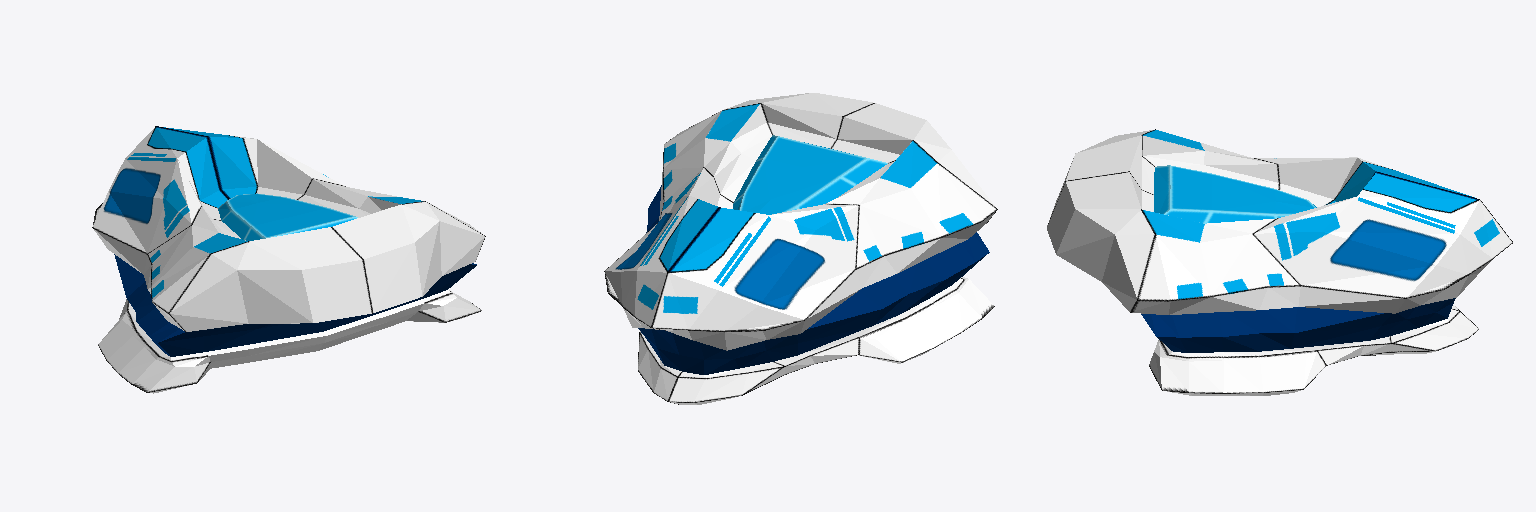
3 renders of one model, left to right at view 1: azimuth 30°, elevation 25°; view 2: azimuth 150°, elevation 25°; view 3: azimuth 270°, elevation 25°, orthographic.
Parts seen in each view (by area): view 1: pCube12; view 2: pCube12; view 3: pCube12.
Boxes of the visible parts, x1,y1,x2,y2 form: pCube12: [92, 126, 485, 393]; pCube12: [604, 93, 997, 404]; pCube12: [1047, 129, 1512, 395].
Bounding box in the file's own units: 8.94 × 4.24 × 10.65.
Materials: 1 (1 with a texture image).